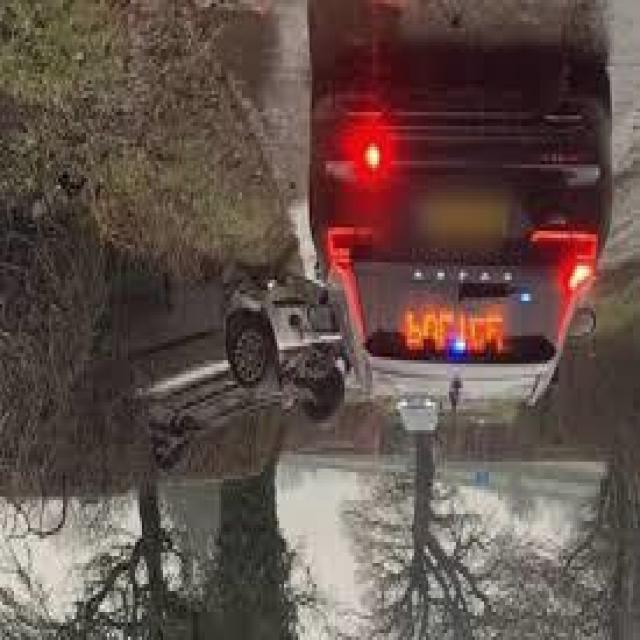severe: (88, 255, 352, 479)
